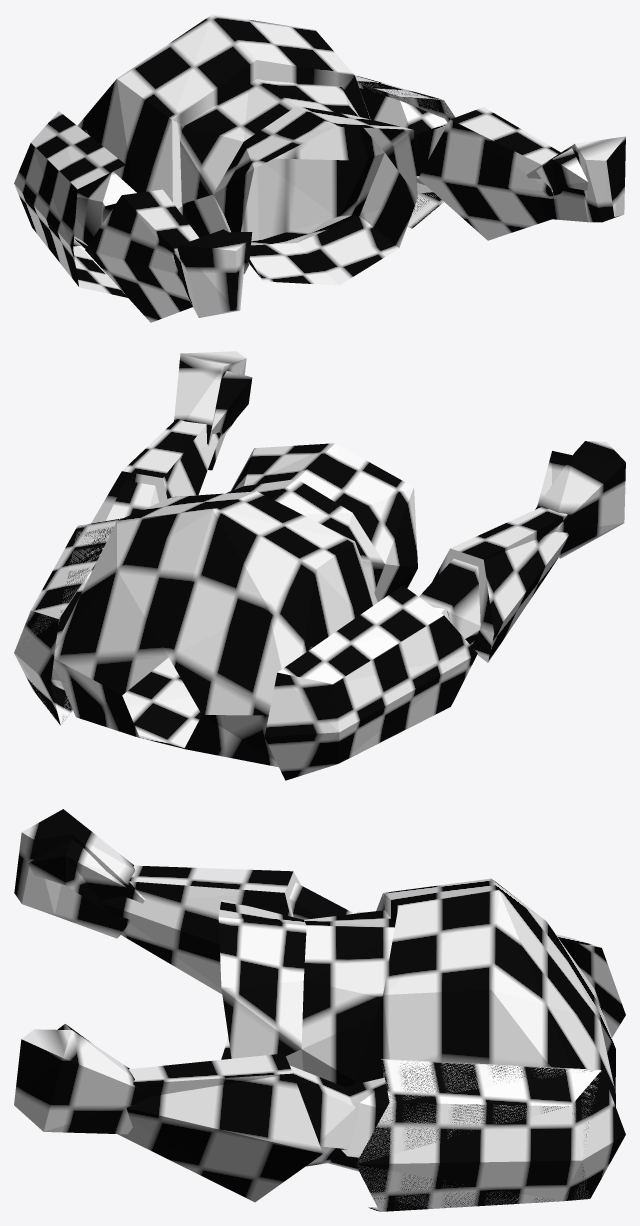
The model's file is initarpl8.dae.
The picture shows the model from 3 angles, top to bottom: view 1: azimuth 30°, elevation 25°; view 2: azimuth 150°, elevation 25°; view 3: azimuth 270°, elevation 25°; orthographic projection. The views are drawn at different scales.
Visible parts, largest first — view 1: armor; view 2: armor; view 3: armor.
Boxes of the visible parts, x1=… form: armor: x1=14, y1=14, x2=625, y2=322; armor: x1=14, y1=351, x2=625, y2=780; armor: x1=14, y1=809, x2=625, y2=1211.
Bounding box in the file's own units: 1.64 × 1.71 × 0.8022.
1 material, 1 textured.
